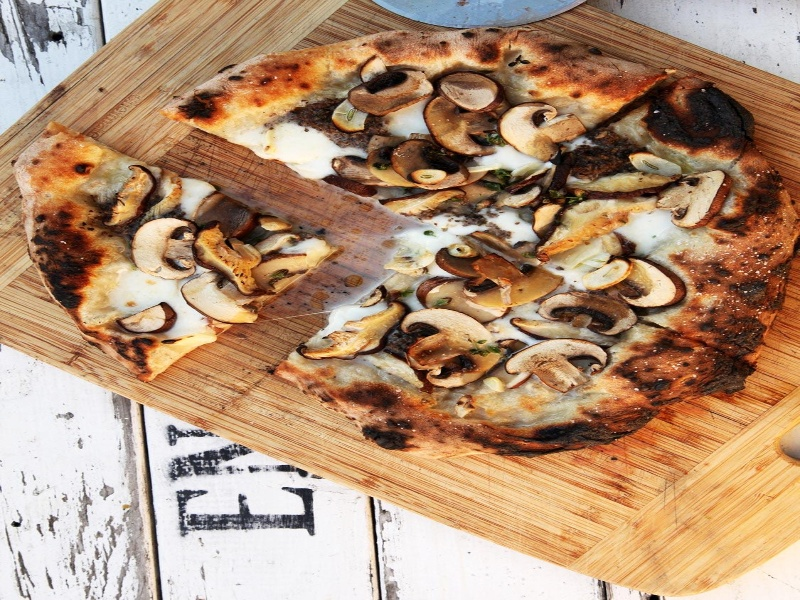champignon: (391, 304, 503, 392), (502, 327, 611, 398), (533, 285, 650, 349), (421, 91, 516, 160), (494, 101, 593, 164), (349, 55, 441, 121), (129, 212, 201, 289), (650, 164, 730, 232)
